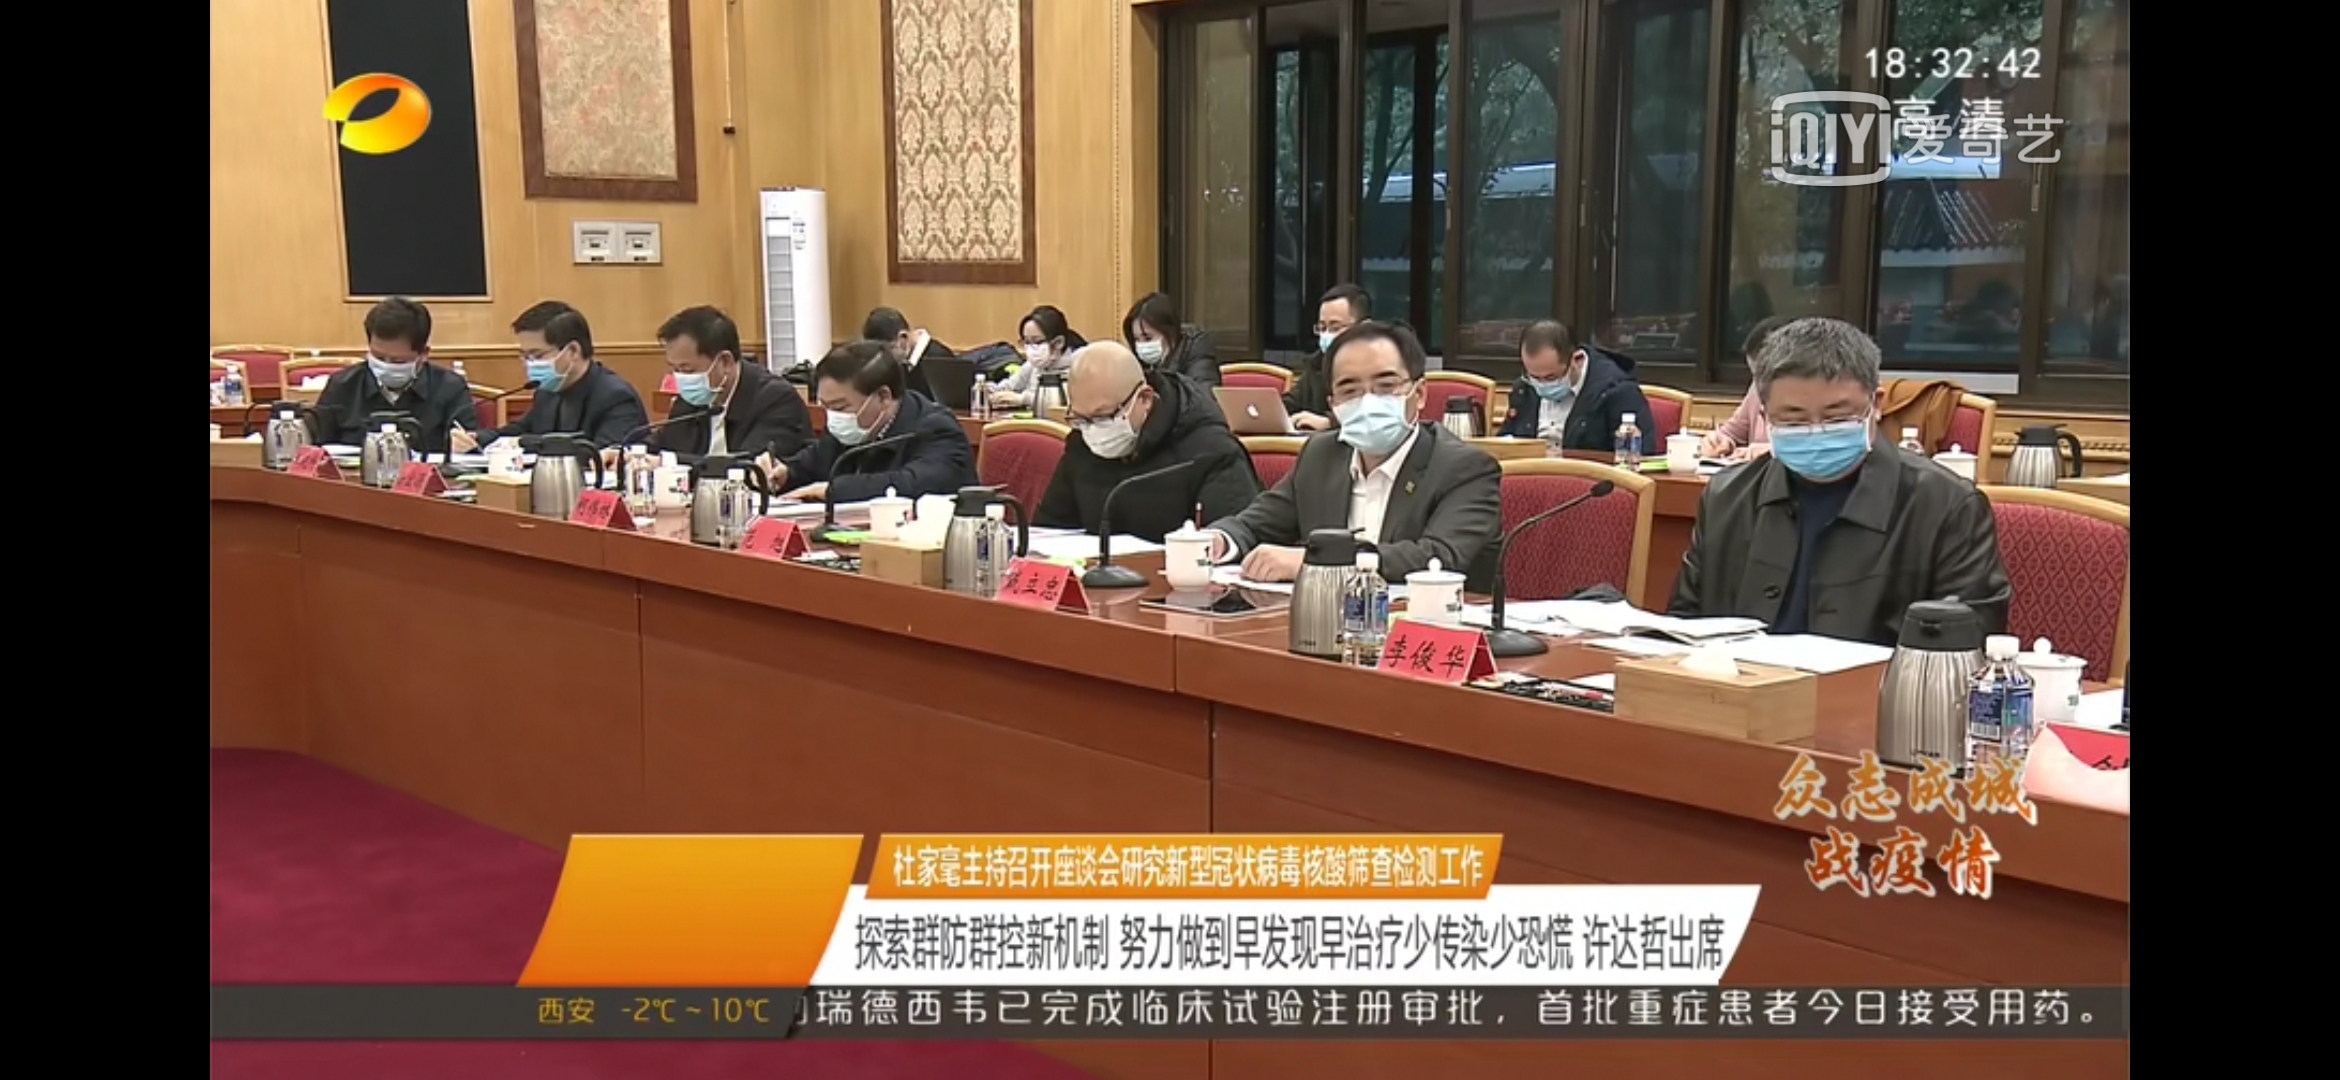correctlyWear: (1749, 312, 1892, 486), (807, 331, 904, 459), (1058, 339, 1154, 462), (654, 295, 745, 418), (510, 295, 601, 403), (1333, 364, 1431, 456), (361, 292, 439, 392), (1515, 313, 1589, 400), (1122, 283, 1183, 370), (1019, 306, 1066, 371), (1313, 303, 1363, 358)
